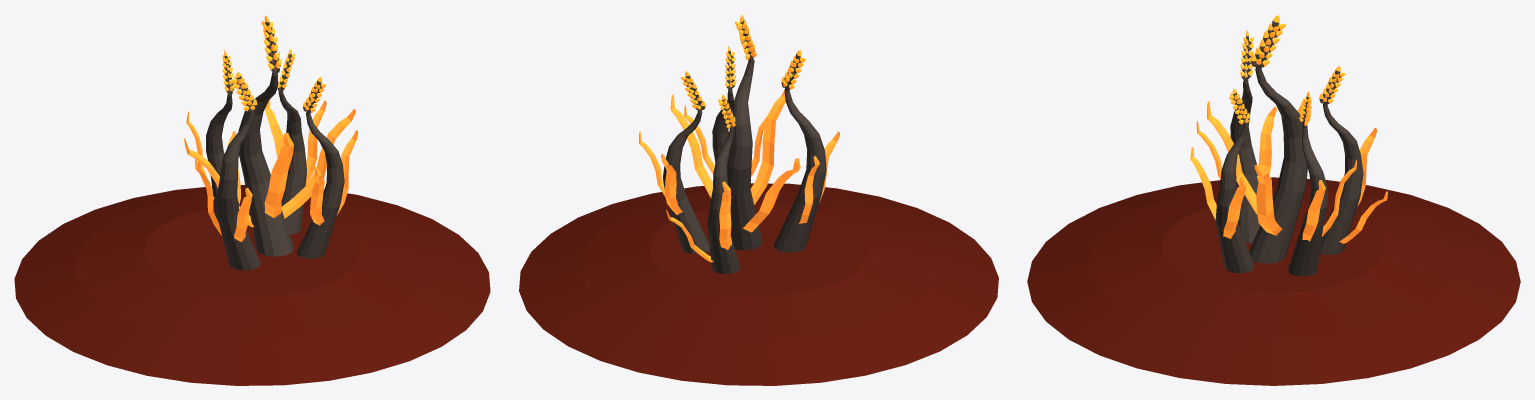
The model's file is Cinderwheat_Merged.fbx.
3 views of the same model, side by side, from view 1: azimuth 30°, elevation 25°; view 2: azimuth 150°, elevation 25°; view 3: azimuth 270°, elevation 25° (orthographic). The views are drawn at different scales.
Parts seen in each view (by area): view 1: 01_Soil; view 2: 01_Soil; view 3: 01_Soil.
Boxes of the visible parts, x1=… form: 01_Soil: x1=14, y1=15, x2=490, y2=385; 01_Soil: x1=519, y1=15, x2=998, y2=385; 01_Soil: x1=1027, y1=14, x2=1520, y2=385.
Bounding box in the file's own units: 200 × 123 × 200.
